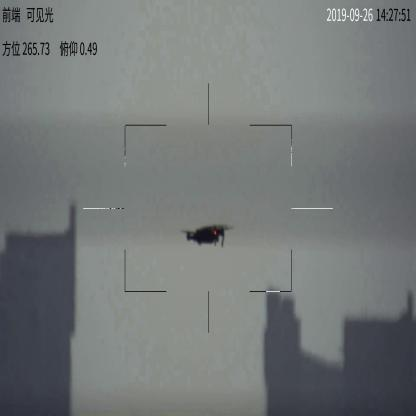uav: (171, 222, 231, 250)
